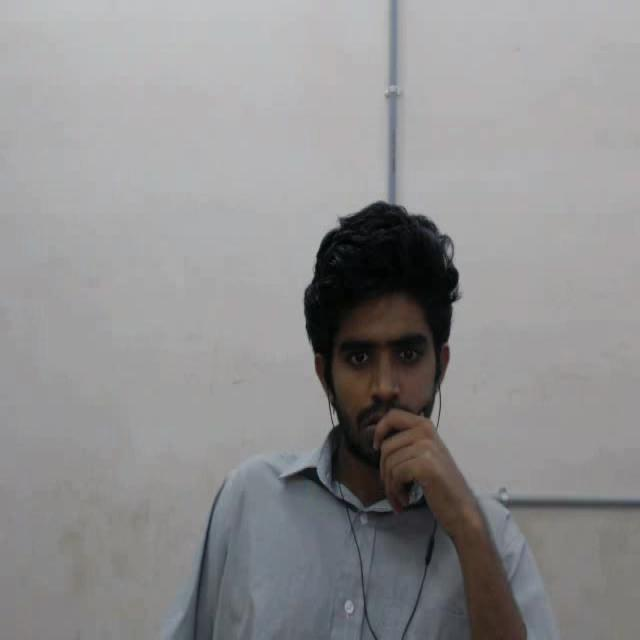Bored: (276, 180, 502, 501)
